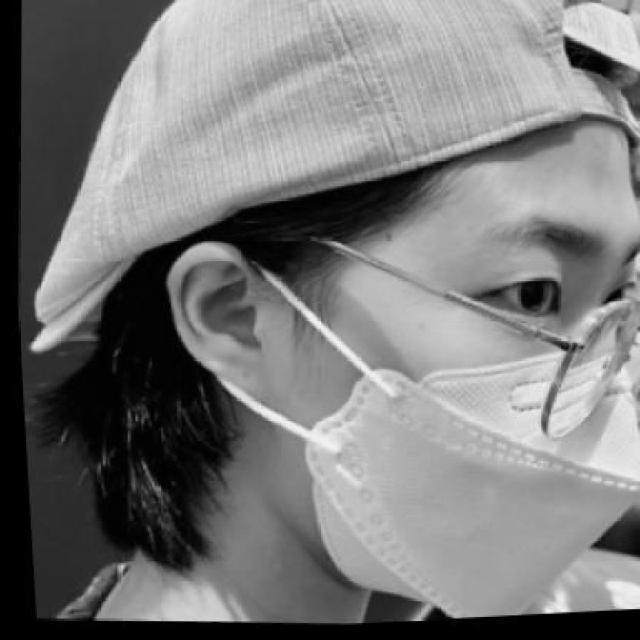hat: (26, 0, 640, 353)
